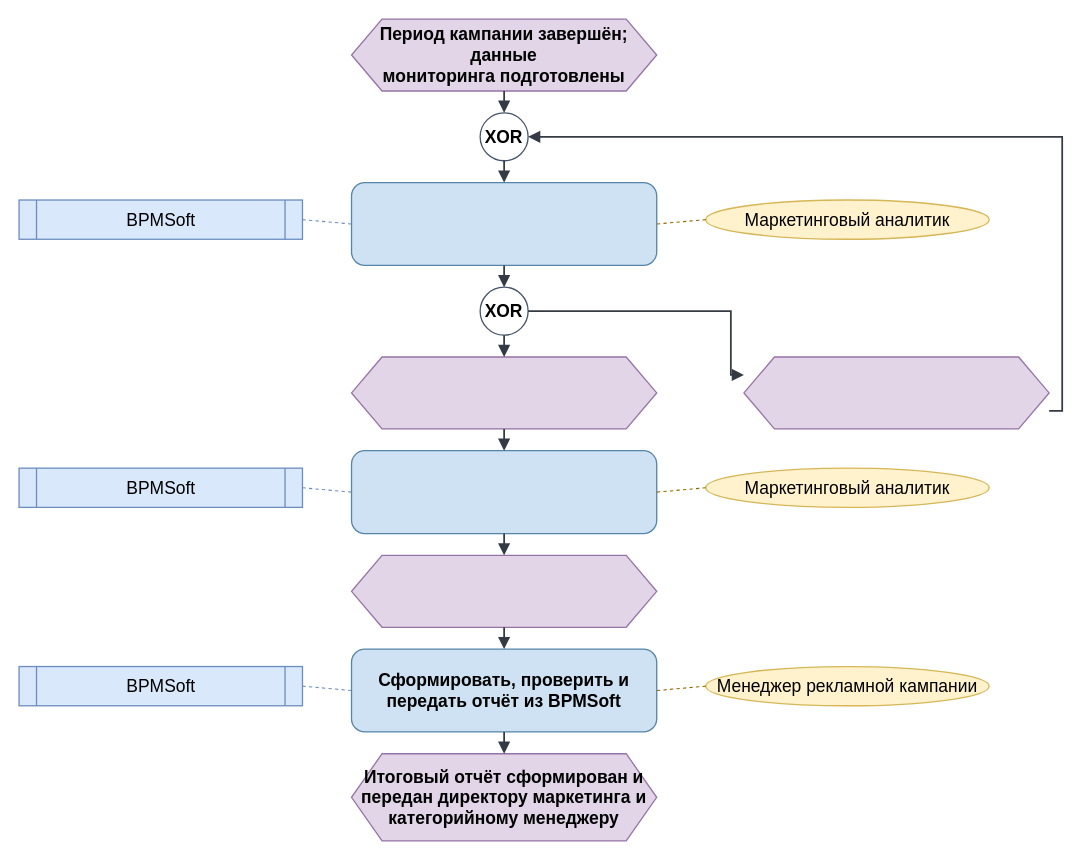
This 1092x861 diagram has some shape labels left out. The shapes that lost their labels are listed below. From the top down, each one's centre as x and y in pixels, then its label:
(503,223): Проверить результаты и сформировать сводку в BPMSoft
(503,392): Сводные результаты кампании сформированы и проверены
(896,392): Выявлены пропуски или несопоставимые показатели
(503,492): Проверить показатели и оценить эффективность в BPMSoft
(503,590): Аналитика эффективности рекламной кампании подготовлена
